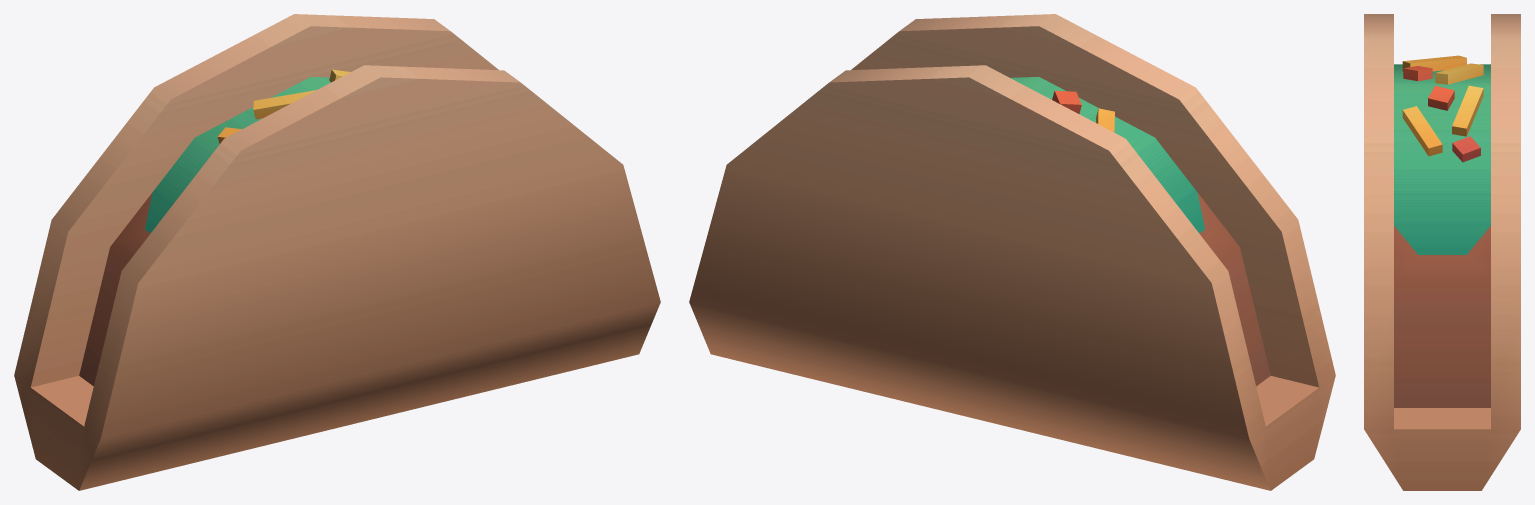
File: taco.glb
The picture shows the model from 3 angles, left to right: view 1: azimuth 30°, elevation 25°; view 2: azimuth 150°, elevation 25°; view 3: azimuth 270°, elevation 25°; orthographic projection. The views are drawn at different scales.
Visible parts, largest first — view 1: taco; view 2: taco; view 3: taco.
Boxes of the visible parts, x1,y1,x2,y2 form: taco: (14,14,660,490); taco: (689,14,1335,490); taco: (1364,14,1520,490).
Bounding box in the file's own units: 0.4256 × 0.2622 × 0.114.
1 material, 1 textured.
